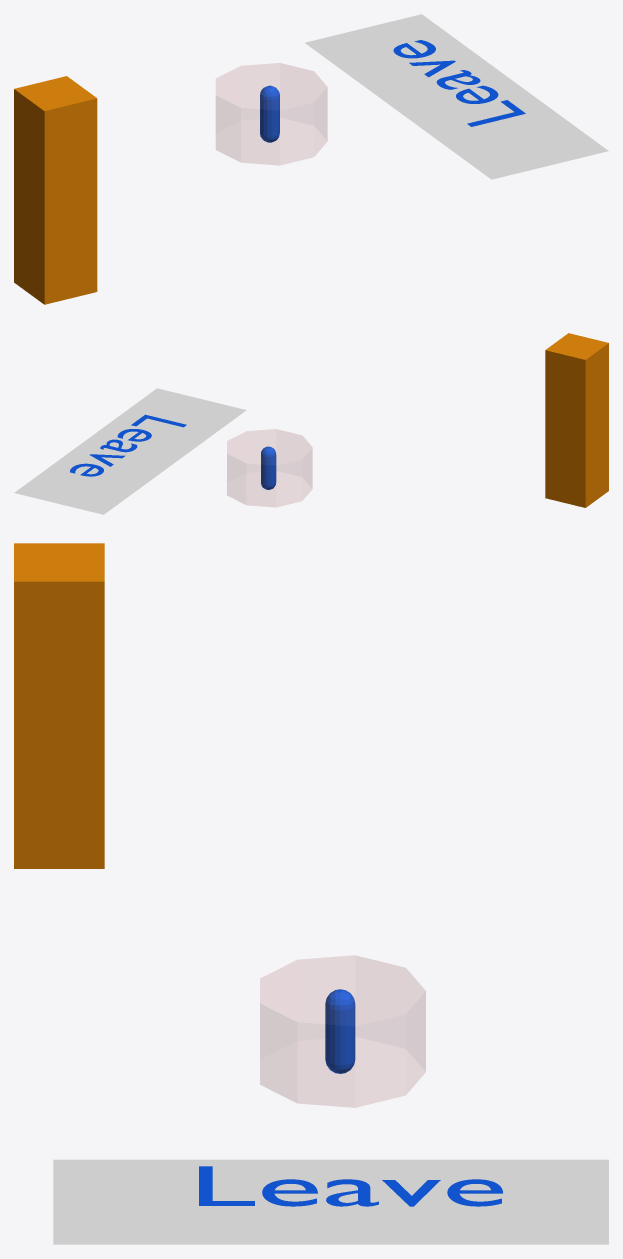
The model's file is advanced.glb.
3 renders of one model, top to bottom at view 1: azimuth 30°, elevation 25°; view 2: azimuth 150°, elevation 25°; view 3: azimuth 270°, elevation 25°, orthographic. The views are drawn at different scales.
Visible parts, largest first — view 1: Plane.004, Pillar_geometry, player_sensor.001, Text, player_geometry.001; view 2: Plane.004, Pillar_geometry, player_sensor.001, Text, player_geometry.001; view 3: Plane.004, Pillar_geometry, player_sensor.001, Text, player_geometry.001.
Part boxes in pixels (x1,y1,x2,y2): Plane.004: (305,14,608,179); Pillar_geometry: (14,76,97,304); player_sensor.001: (216,63,327,165); Text: (393,40,525,126); player_geometry.001: (260,85,279,142); Plane.004: (14,388,246,514); Pillar_geometry: (545,333,608,507); player_sensor.001: (227,429,312,507); Text: (70,414,186,476); player_geometry.001: (261,446,276,489); Plane.004: (53,1159,608,1244); Pillar_geometry: (14,543,104,868); player_sensor.001: (260,955,425,1107); Text: (199,1166,502,1206); player_geometry.001: (325,989,355,1073).
Size of what is drawn, in the model's own units: 21.86 by 7 by 13.13.
